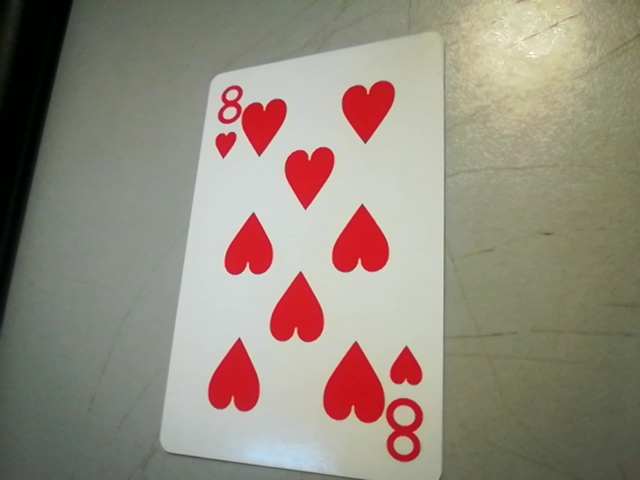hx 8: (203, 80, 248, 161)
